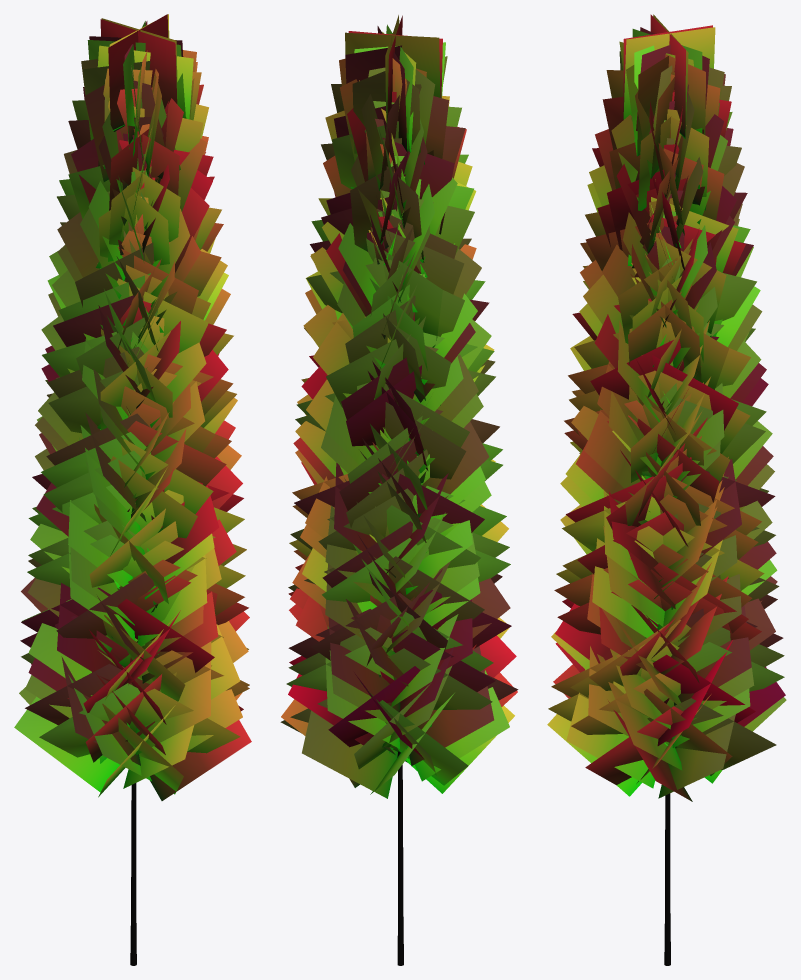
Rendered from URP_P4_Tree_4_LOD_2.fbx.
3 renders of one model, left to right at view 1: azimuth 30°, elevation 25°; view 2: azimuth 150°, elevation 25°; view 3: azimuth 270°, elevation 25°, orthographic.
Parts seen in each view (by area): view 1: Tree_4_LOD_2; view 2: Tree_4_LOD_2; view 3: Tree_4_LOD_2.
Part boxes in pixels (x1,y1,x2,y2): Tree_4_LOD_2: [14, 14, 251, 965]; Tree_4_LOD_2: [280, 15, 518, 965]; Tree_4_LOD_2: [547, 14, 786, 965].
Bounding box in the file's own units: 213 × 918 × 213.
